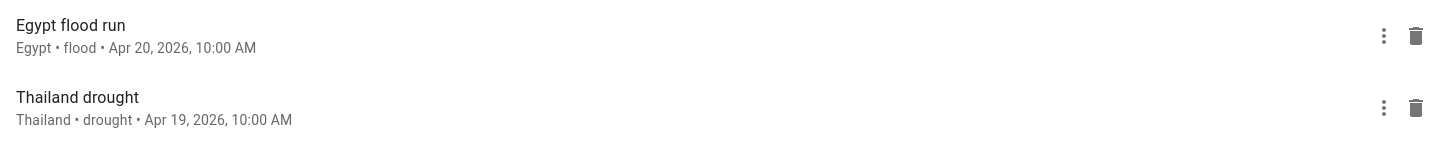
WorkspaceList › removes the row after the backend confirms a delete
The image size is (1440, 160).
Click the button named "delete-s-1" at (1416,36), box [1396,16,1436,56]
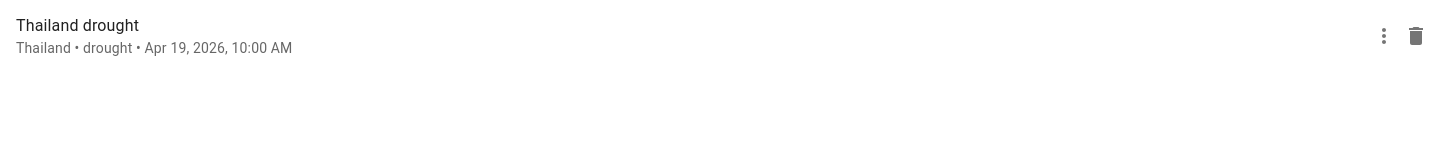
expect the text "Thailand drought" is shown: met, box [16,16,139,35]
expect the button "Egypt flood run" is gone: met
